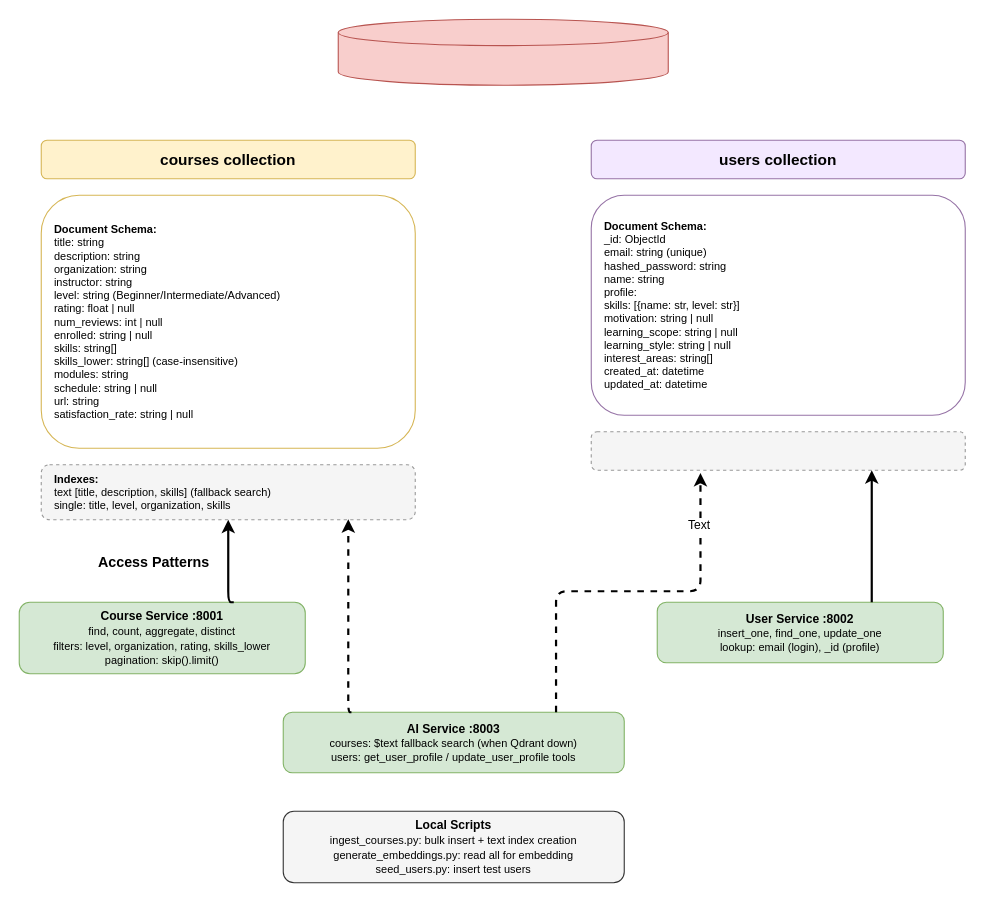
Image size: 985x902. Some labels were removed from this diagram. Each missing label, with the centre of its shape:
Indexes: unique: email: (x=777, y=450)
MongoDB (course_finder) Motor async · maxPool=10 · timeout=5s: (x=502, y=51)
